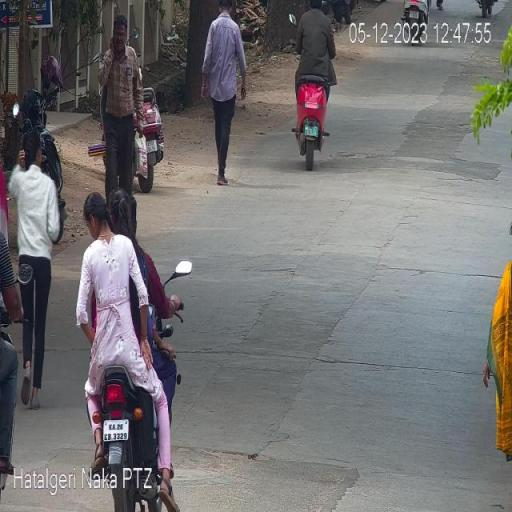tripple riding: (71, 178, 182, 364)
